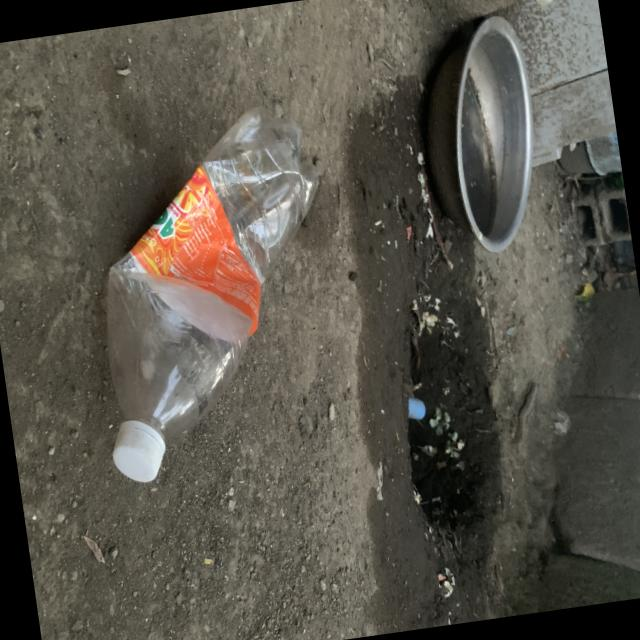Bottle: (107, 107, 320, 481)
